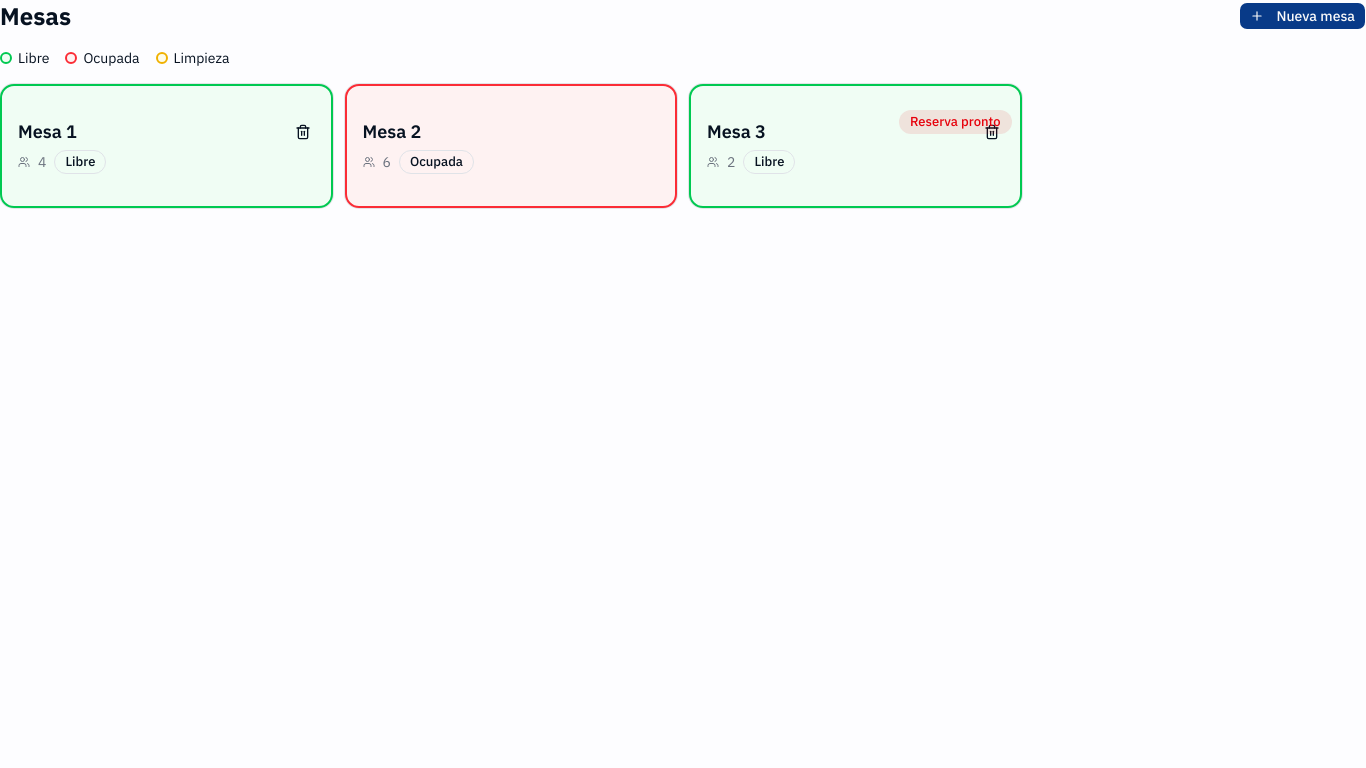
Test case: TablesPage › allows switching to bulk creation
Click the button "Nueva mesa": click(1303, 16) [1240, 2, 1365, 30]
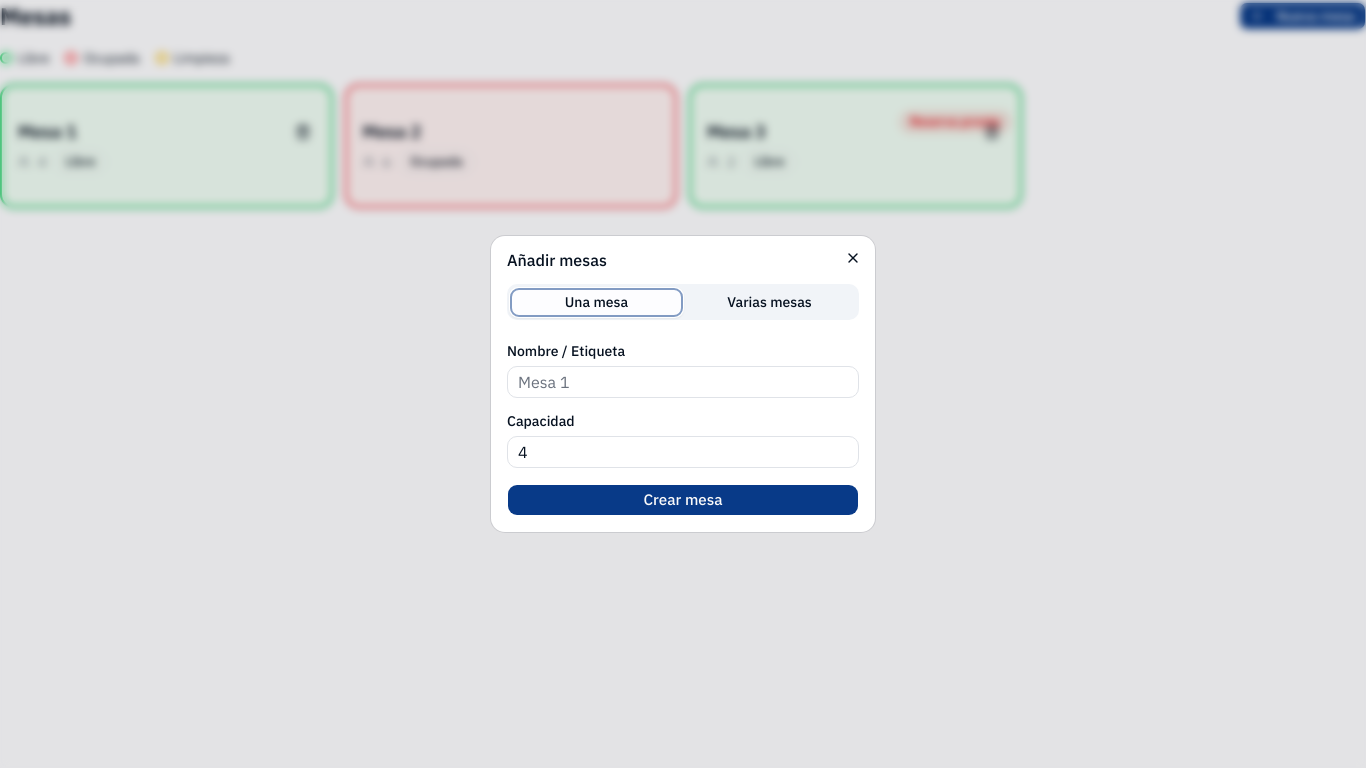
Click the tab "Varias mesas": click(770, 302) [683, 288, 856, 316]
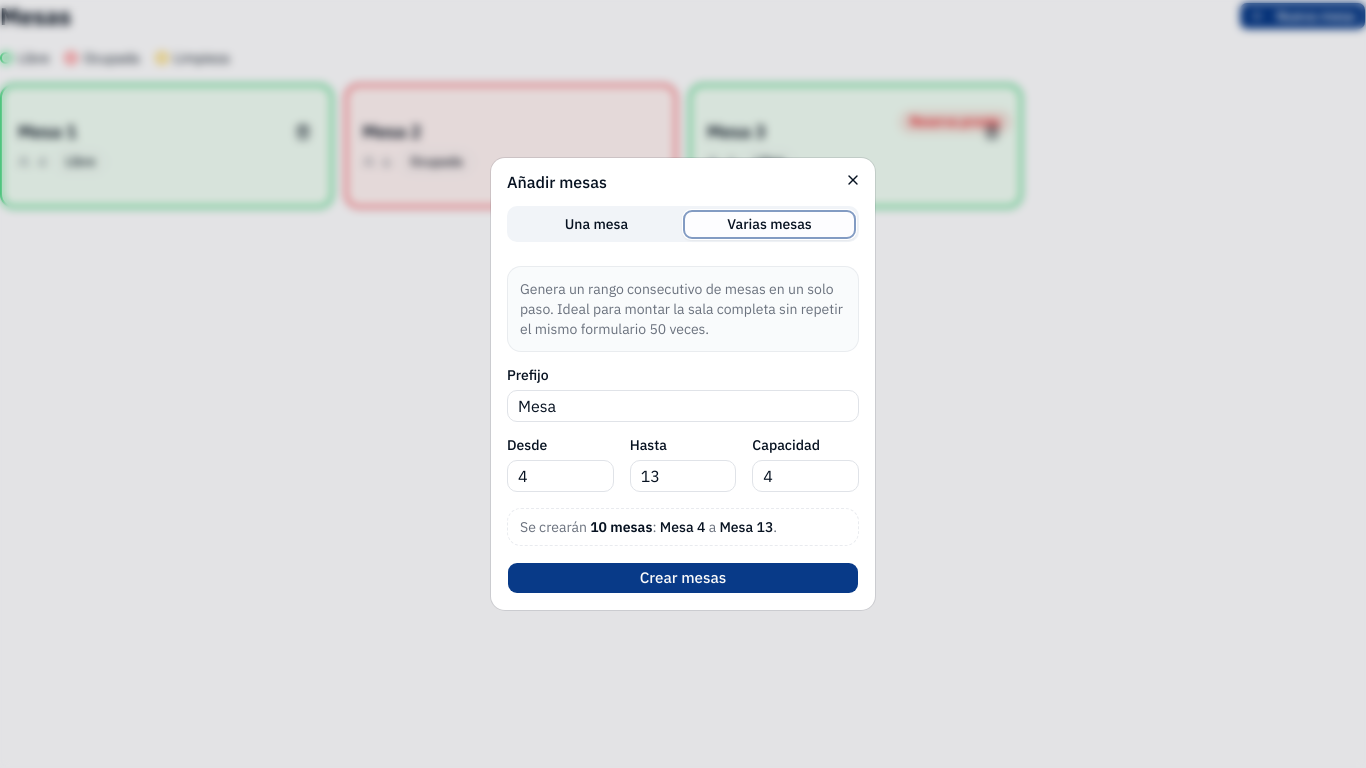
expect the button "Crear mesas" is shown: met, box [507, 562, 859, 594]
expect the field labelled "Prefijo" holds "Mesa": met, box [507, 390, 859, 422]
